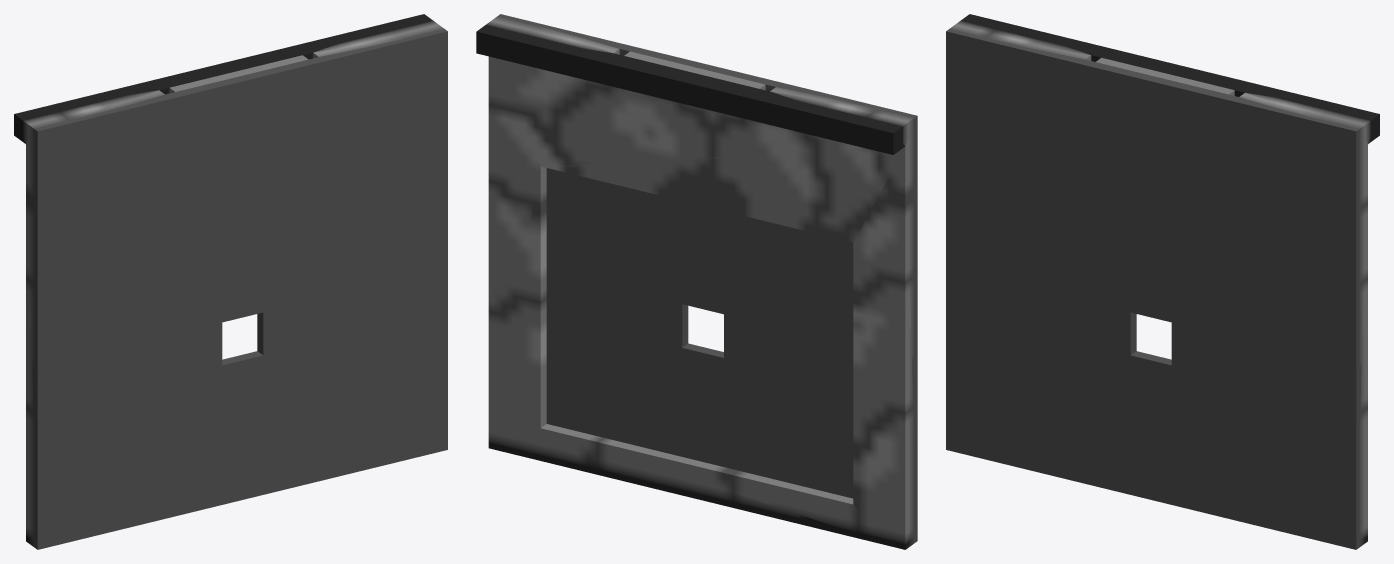
Rendered from WallDefaultWall_L.fbx.
3 renders of one model, left to right at view 1: azimuth 30°, elevation 25°; view 2: azimuth 150°, elevation 25°; view 3: azimuth 330°, elevation 25°, orthographic.
Parts seen in each view (by area): view 1: walldefaultwall_l.walldefaultwall_l-0; view 2: walldefaultwall_l.walldefaultwall_l-0; view 3: walldefaultwall_l.walldefaultwall_l-0.
Part boxes in pixels (x1,y1,x2,y2): walldefaultwall_l.walldefaultwall_l-0: [14, 14, 447, 549]; walldefaultwall_l.walldefaultwall_l-0: [476, 14, 917, 549]; walldefaultwall_l.walldefaultwall_l-0: [946, 14, 1379, 549].
Size of the model in its own units: 400 by 390 by 40.
